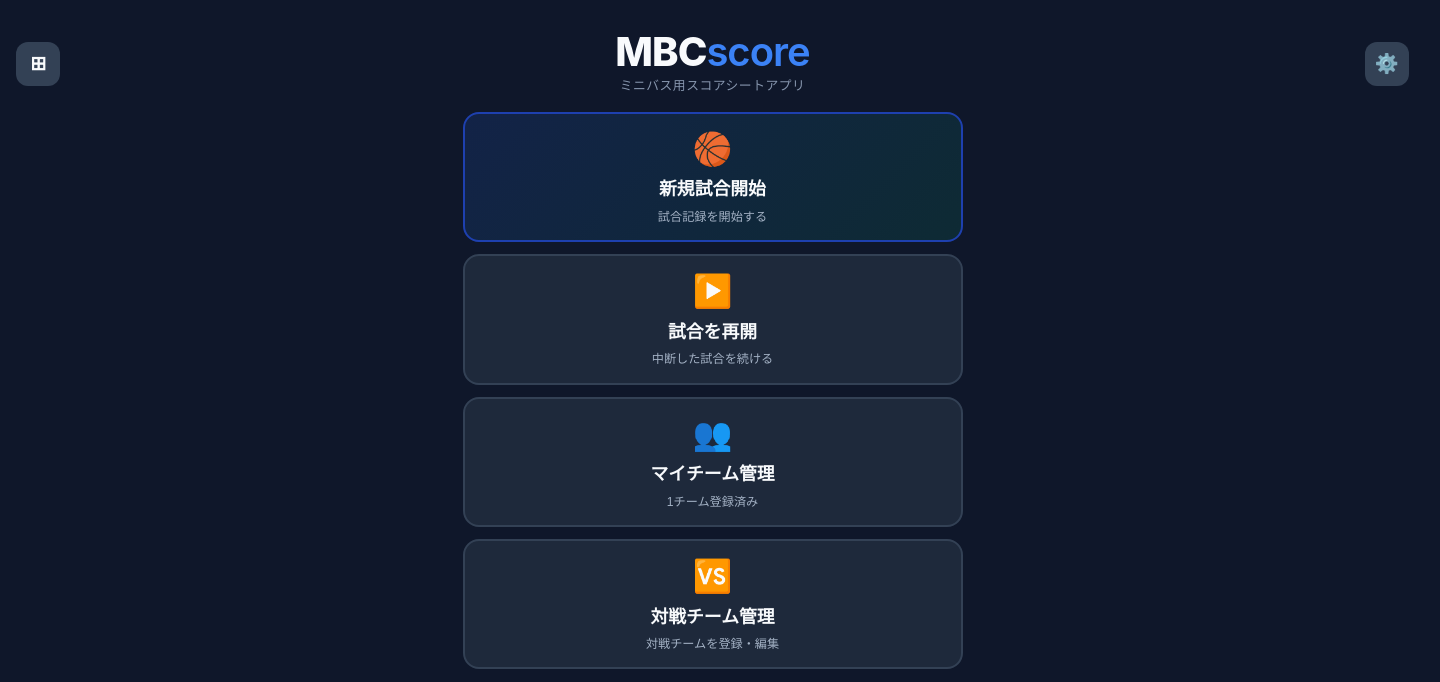
it: 第4Q終了時の未割り当て得点 › 割り当てに戻れる（試合は終わらない）
Click the text "試合を再開": (713, 330) [668, 317, 757, 343]
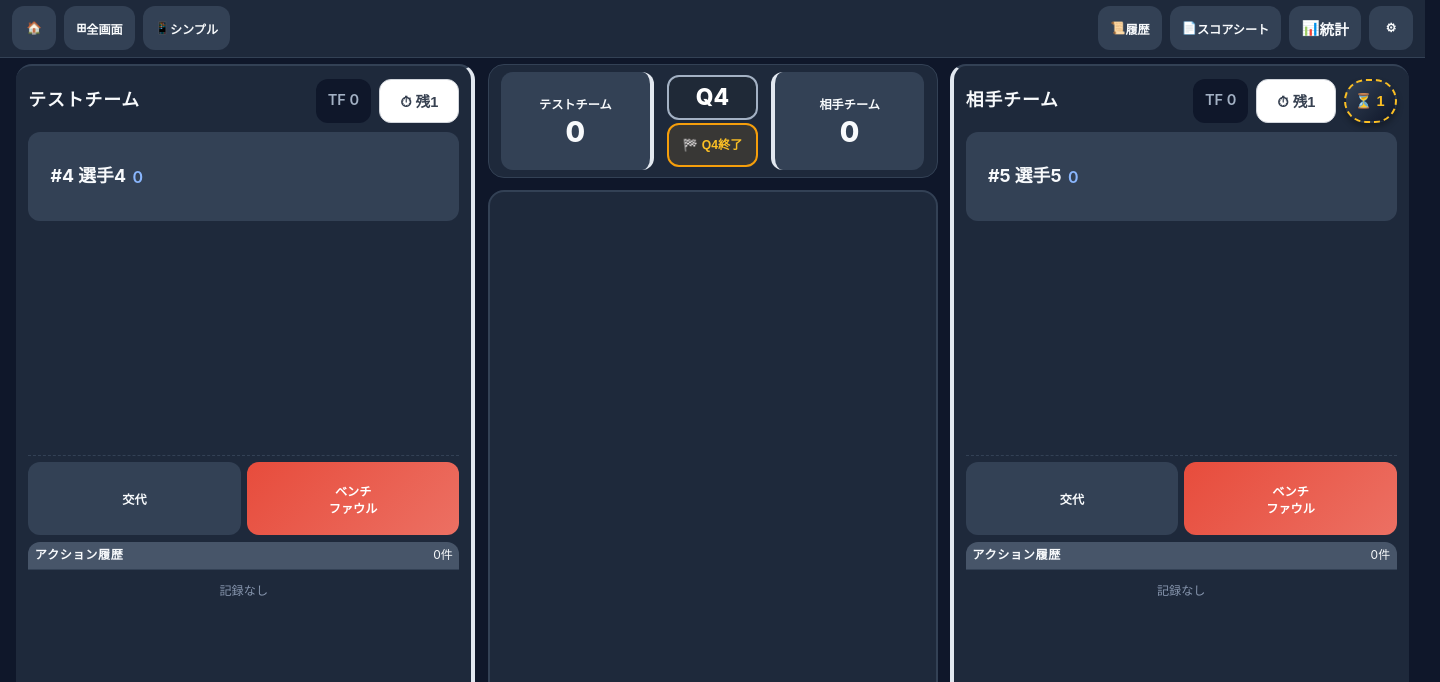
Click the text "Q4終了": (722, 145) [702, 138, 742, 152]
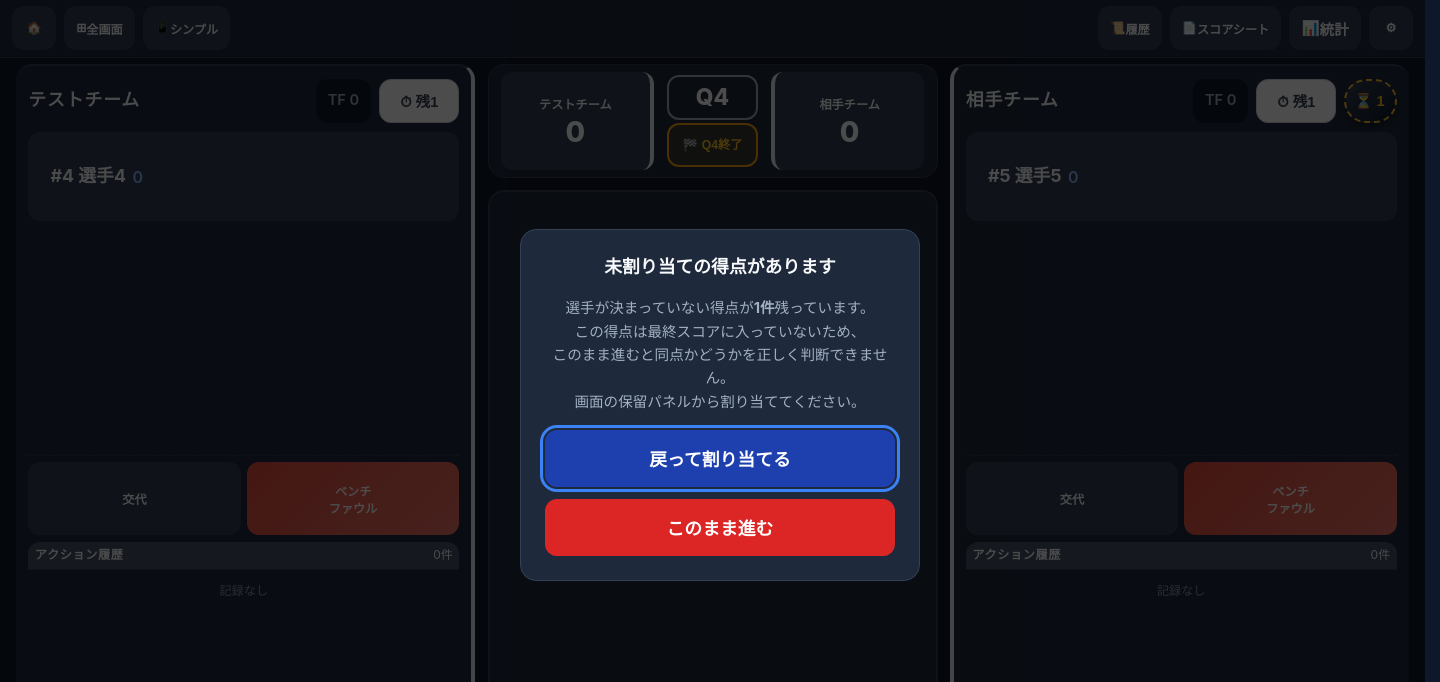
Click the button "戻って割り当てる": (720, 458) [545, 430, 895, 487]
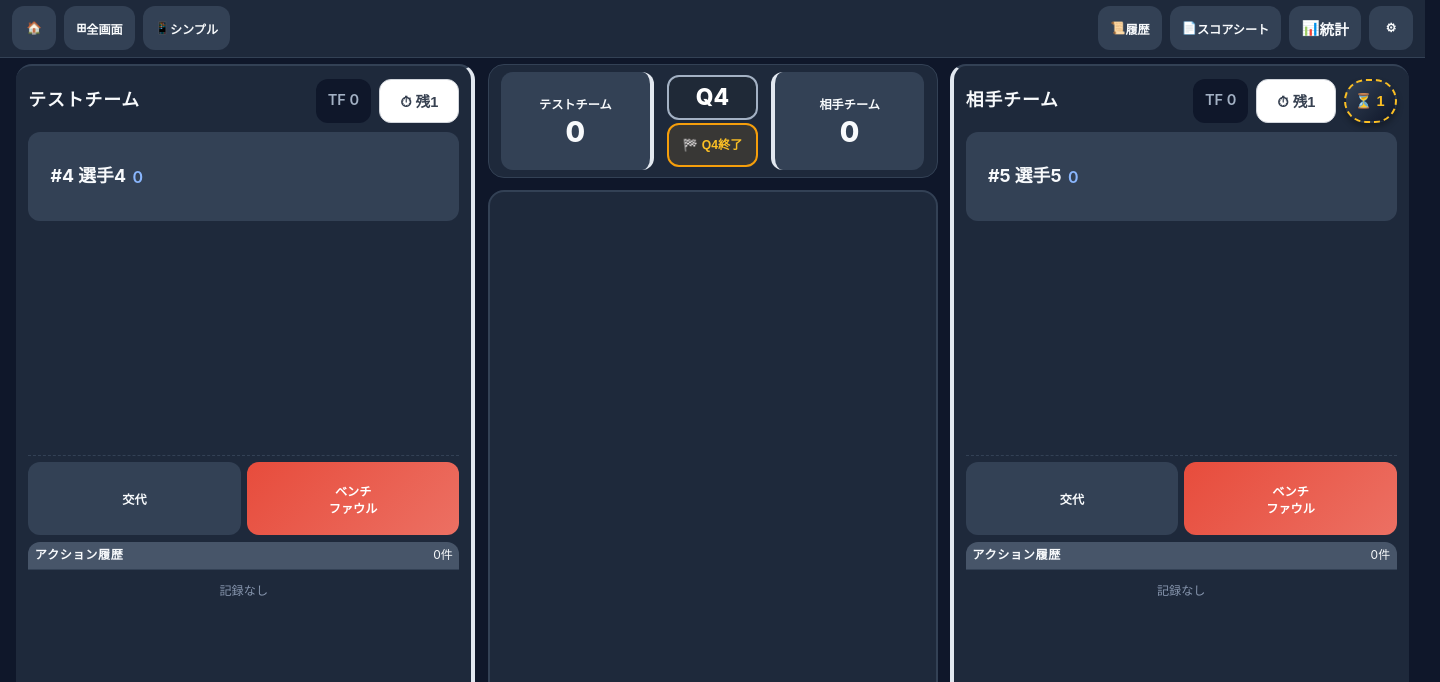
Result: the text "Q4終了" is shown at [702, 138, 742, 152]
Result: the heading "未割り当ての得点があります" is gone
